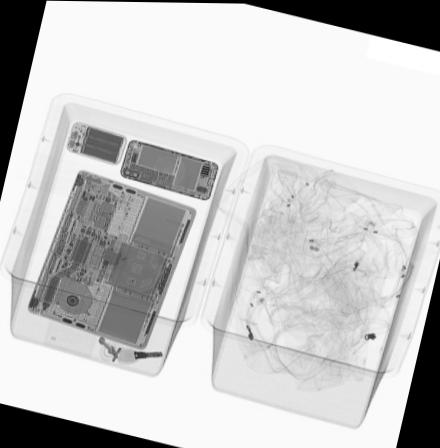Powerbank: (61, 119, 130, 167)
